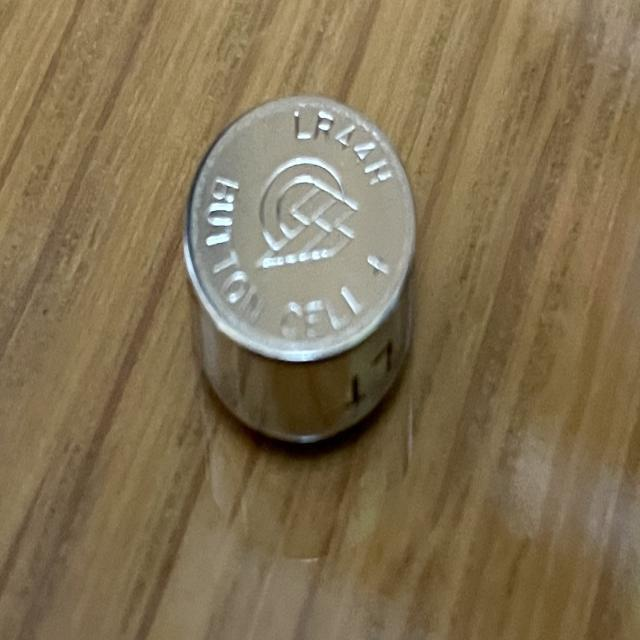COIN: (181, 91, 417, 445)
